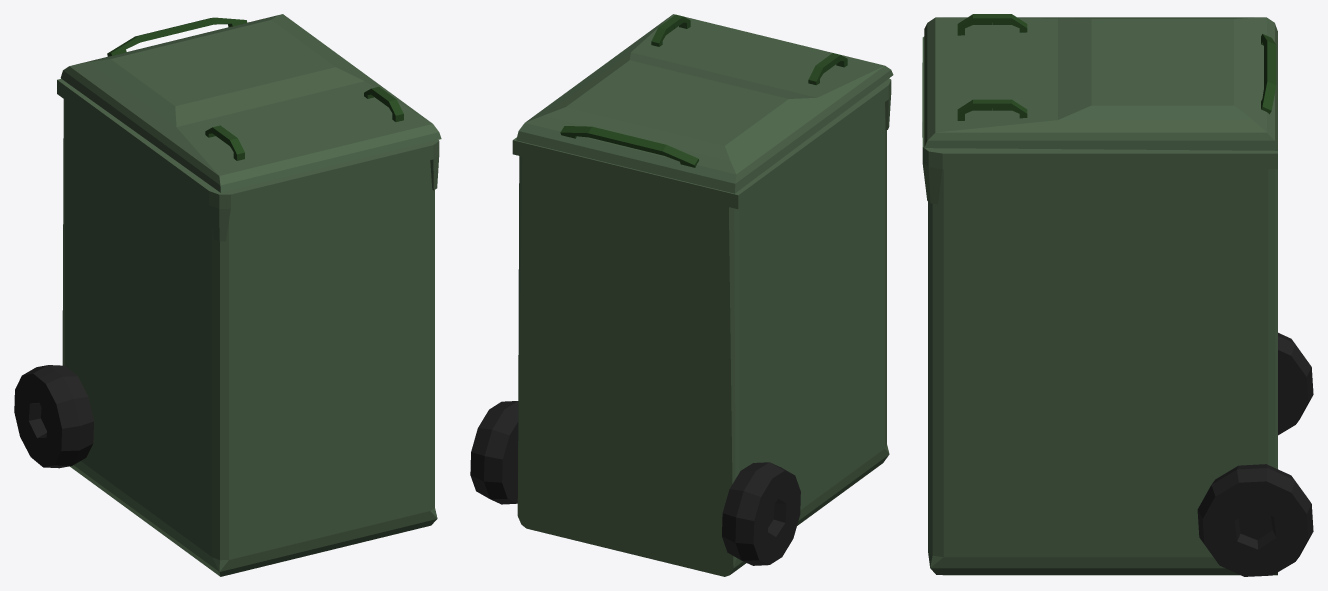
Rendered from TrashContainer.fbx.
3 renders of one model, left to right at view 1: azimuth 30°, elevation 25°; view 2: azimuth 150°, elevation 25°; view 3: azimuth 270°, elevation 25°, orthographic. The views are drawn at different scales.
Parts seen in each view (by area): view 1: Cube.005, Cube.006, Cube.004, Cube.009, Cube.008, Cube.007; view 2: Cube.005, Cube.006, Cube.004, Cube.009, Cube.008, Cube.007; view 3: Cube.005, Cube.006, Cube.004, Cube.009, Cube.008, Cube.007.
Part boxes in pixels (x1,y1,x2,y2): Cube.005: [57, 78, 439, 576]; Cube.006: [60, 14, 441, 192]; Cube.004: [14, 365, 93, 468]; Cube.009: [107, 17, 247, 56]; Cube.008: [364, 86, 403, 121]; Cube.007: [205, 125, 244, 160]; Cube.005: [512, 78, 891, 576]; Cube.006: [516, 14, 893, 193]; Cube.004: [470, 401, 800, 565]; Cube.009: [560, 126, 698, 167]; Cube.008: [651, 14, 690, 46]; Cube.007: [808, 53, 847, 85]; Cube.005: [922, 36, 1277, 575]; Cube.006: [924, 17, 1277, 150]; Cube.004: [1197, 332, 1313, 576]; Cube.009: [1261, 34, 1276, 114]; Cube.008: [957, 99, 1027, 120]; Cube.007: [957, 14, 1027, 35].
Size of the model in its own units: 93.66 by 132 by 101.
